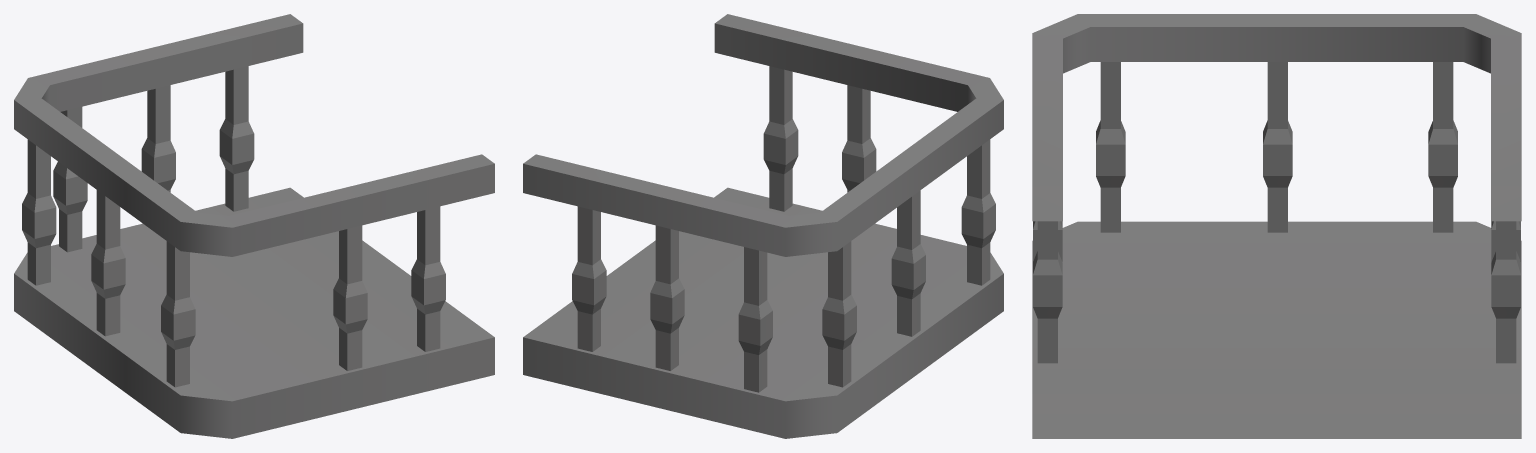
The model's file is Balcon_1_2_A.glb.
The picture shows the model from 3 angles, left to right: view 1: azimuth 30°, elevation 25°; view 2: azimuth 150°, elevation 25°; view 3: azimuth 270°, elevation 25°; orthographic projection. The views are drawn at different scales.
Parts seen in each view (by area): view 1: Balcon_1_2_A; view 2: Balcon_1_2_A; view 3: Balcon_1_2_A.
Part boxes in pixels (x1=…): Balcon_1_2_A: x1=14, y1=14, x2=494, y2=438; Balcon_1_2_A: x1=523, y1=14, x2=1003, y2=438; Balcon_1_2_A: x1=1032, y1=14, x2=1521, y2=438.
Size of the model in its own units: 1.26 by 0.8582 by 1.51.
Materials: 1 (1 with a texture image).
